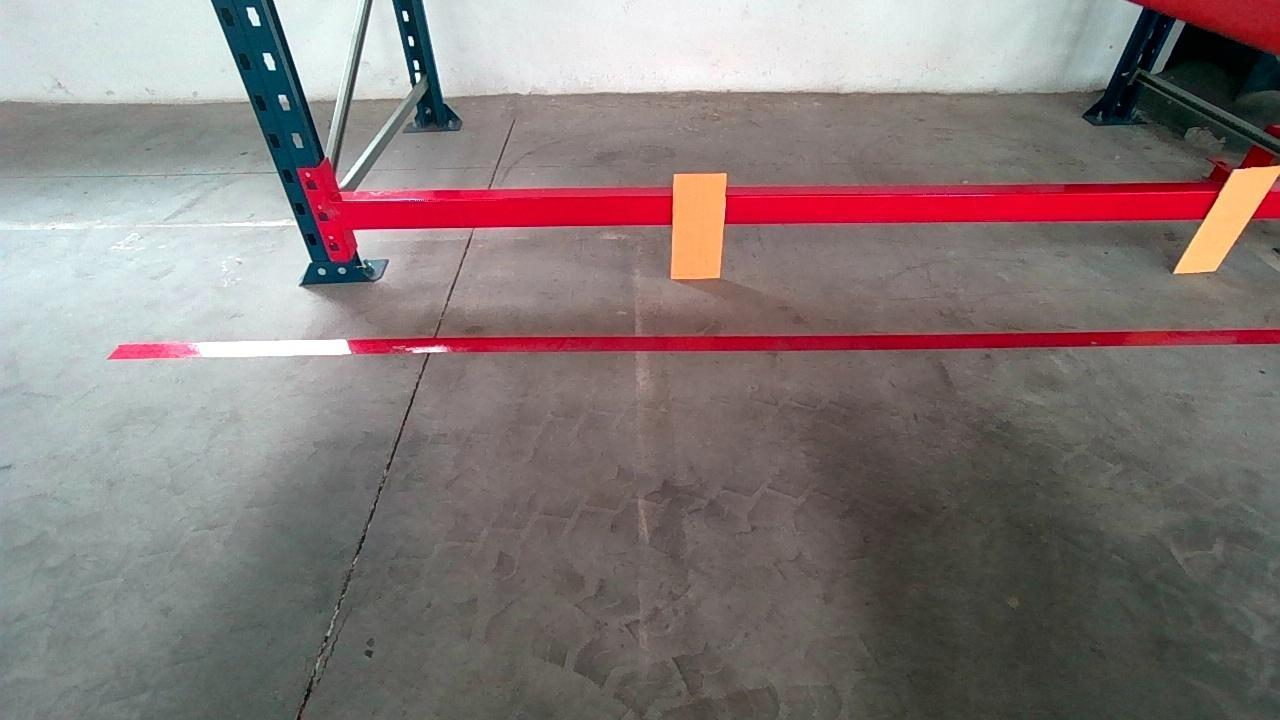h_rack: (341, 185, 1272, 230)
orange_strip: (1176, 166, 1275, 271), (672, 172, 726, 279)
red_line: (136, 321, 1272, 367)
